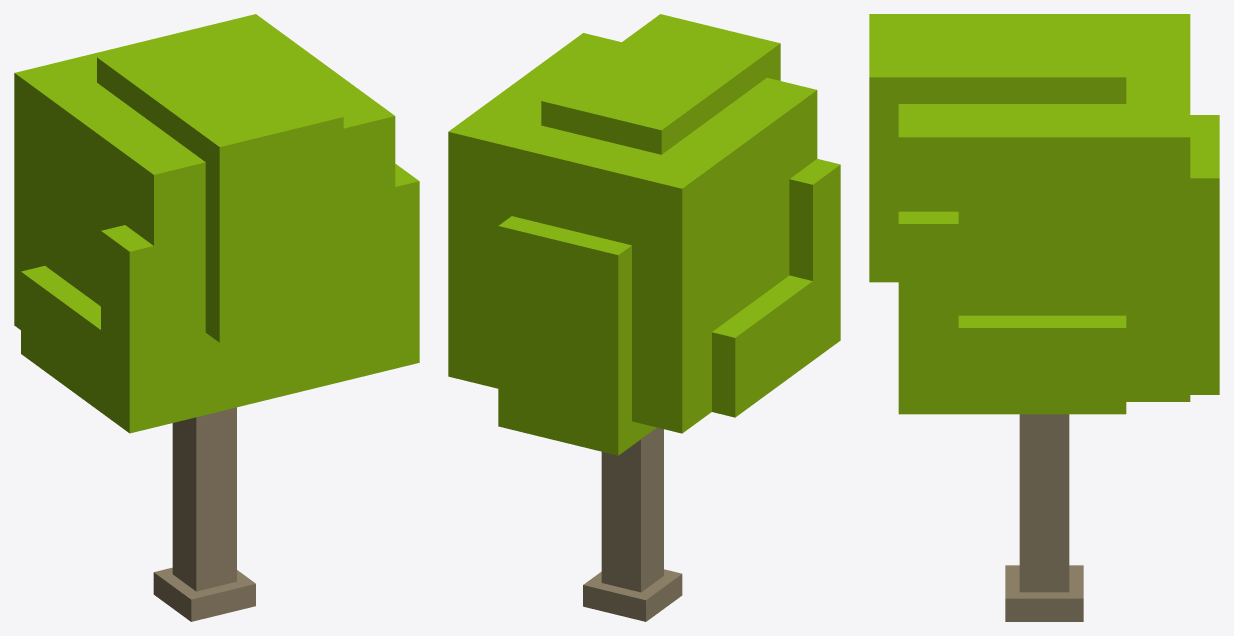
Rendered from tree_boxy_7.fbx.
3 renders of one model, left to right at view 1: azimuth 30°, elevation 25°; view 2: azimuth 150°, elevation 25°; view 3: azimuth 270°, elevation 25°, orthographic. The views are drawn at different scales.
Visible parts, largest first — view 1: tree_boxy_7; view 2: tree_boxy_7; view 3: tree_boxy_7.
Boxes of the visible parts, left/top/right/bottom form: tree_boxy_7: left=14, top=14, right=419, bottom=621; tree_boxy_7: left=448, top=14, right=840, bottom=621; tree_boxy_7: left=869, top=14, right=1219, bottom=621.
Size of the model in its own units: 111 by 194 by 111.
